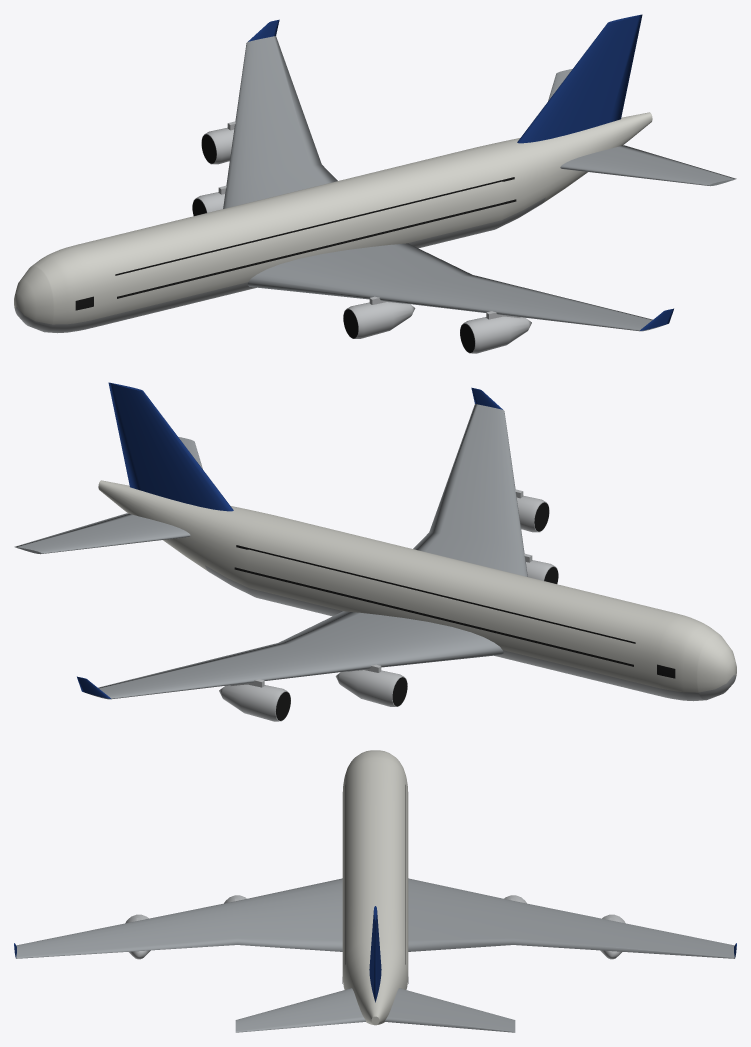
3 views of the same model, one above another, from view 1: azimuth 30°, elevation 25°; view 2: azimuth 150°, elevation 25°; view 3: azimuth 270°, elevation 25° (orthographic). The views are drawn at different scales.
Visible parts, largest first — view 1: a388; view 2: a388; view 3: a388.
Boxes of the visible parts, x1,y1,x2,y2 form: a388: [14, 14, 736, 353]; a388: [14, 382, 736, 721]; a388: [14, 750, 736, 1032].
Size of the model in its own units: 73.89 by 19.73 by 78.58.
